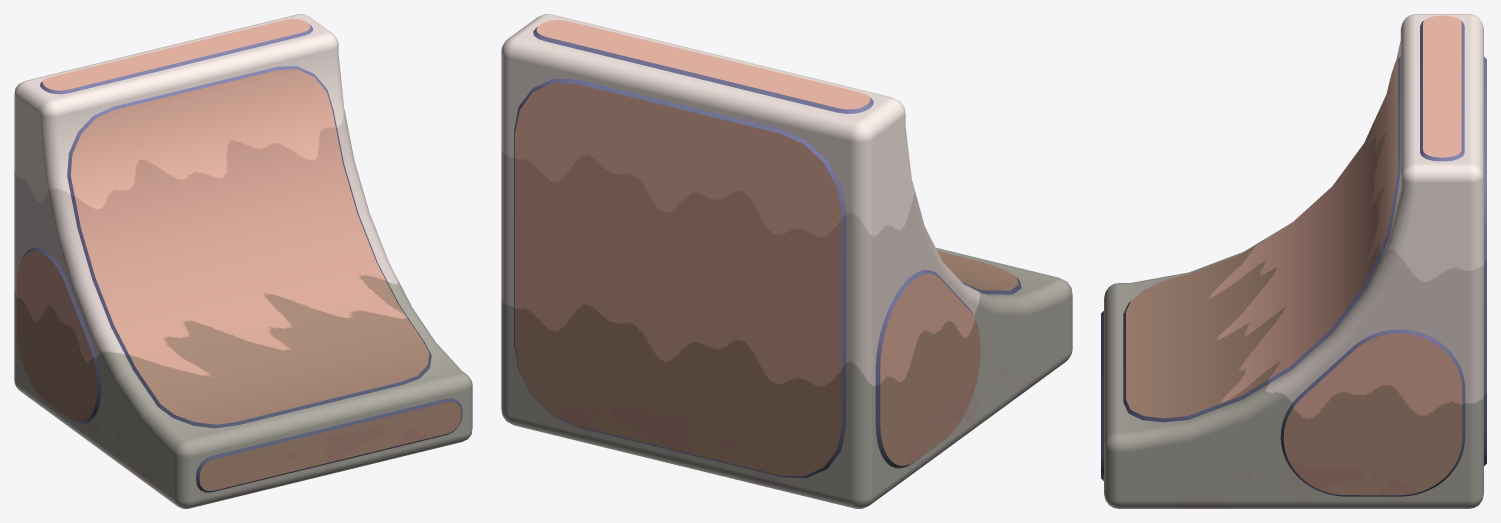
Rendered from R4B_CoveEdge.glb.
3 renders of one model, left to right at view 1: azimuth 30°, elevation 25°; view 2: azimuth 150°, elevation 25°; view 3: azimuth 270°, elevation 25°, orthographic. The views are drawn at different scales.
Visible parts, largest first — view 1: R4B_CoveEdge; view 2: R4B_CoveEdge; view 3: R4B_CoveEdge.
Boxes of the visible parts, x1=… form: R4B_CoveEdge: x1=14, y1=14, x2=472, y2=508; R4B_CoveEdge: x1=501, y1=14, x2=1072, y2=508; R4B_CoveEdge: x1=1101, y1=14, x2=1486, y2=508.
Size of the model in its own units: 0.52 by 0.52 by 0.52.
3 materials, 3 textured.
